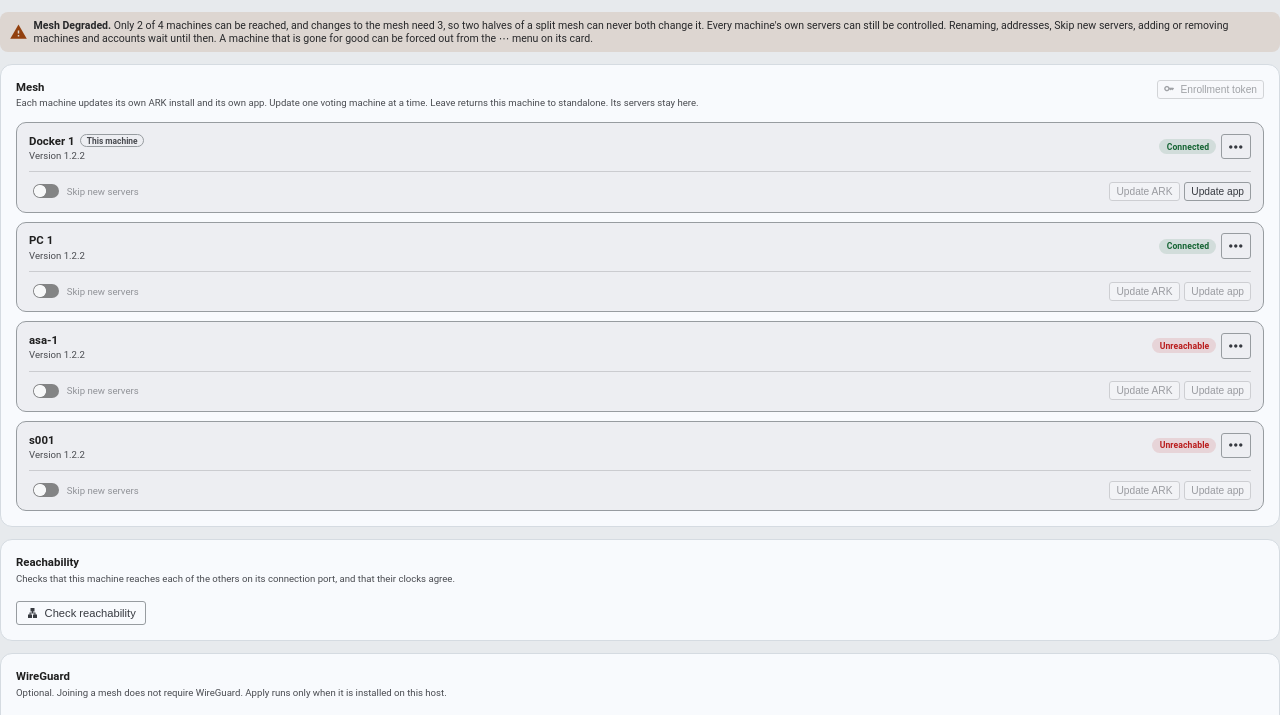
Test case: MeshSettingsComponent › without quorum › says why each change is unavailable
The width and height of the screenshot is (1280, 715).
Click the button with class "mesh-node-more" in the row of "PC 1": (1236, 246) [1221,233,1251,259]
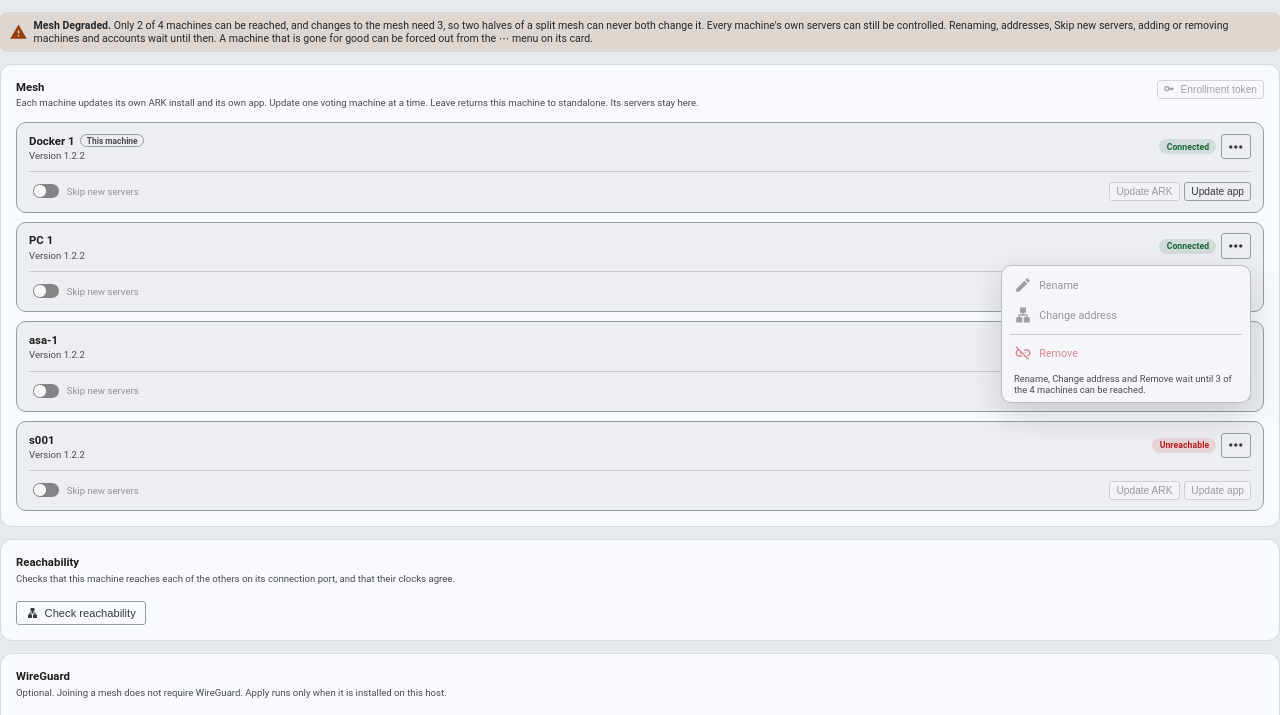
Expected: the menu item "Rename" is disabled, [1006,270,1246,300]
Expected: the text with class "mesh-node-menu-note" reads "Rename, Change address and Remove wait until 3 of the 4 machines can be reached.", [1014,373,1232,395]
Click the button with class "mesh-node-more" in the row of "Docker 1": (1236, 147) [1221,134,1251,160]
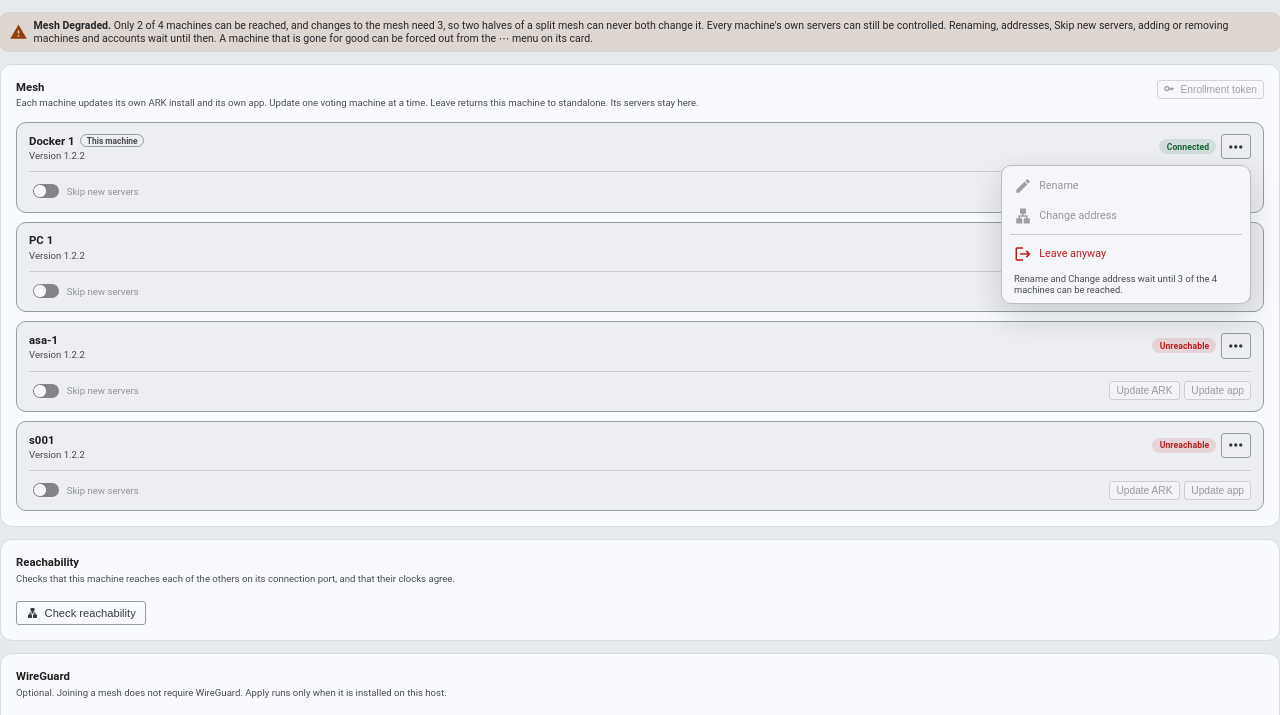
Expected: the text with class "mesh-node-menu-note" reads "Rename and Change address wait until 3 of the 4 machines can be reached.", [1014,273,1217,295]
